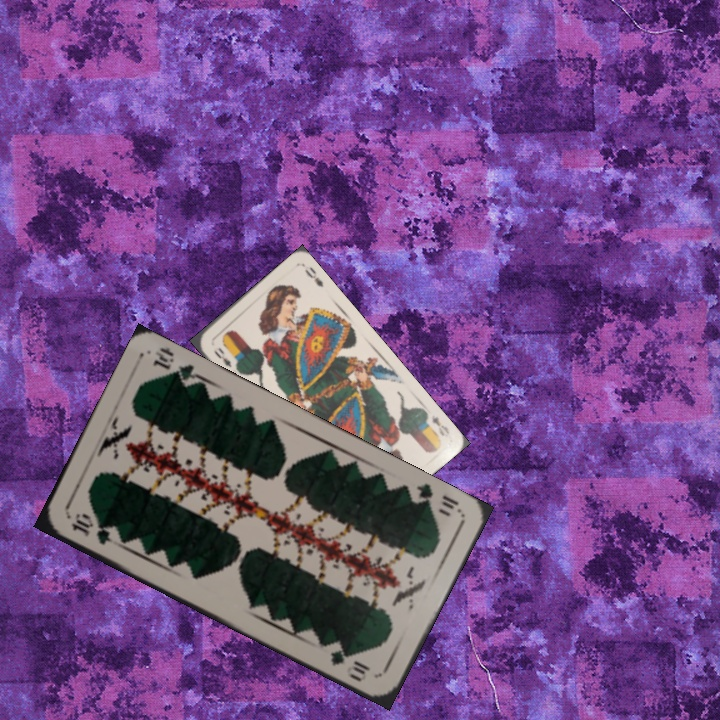EO: (427, 411, 452, 440), (209, 343, 234, 370)
G10: (405, 479, 463, 515), (67, 510, 120, 548)
